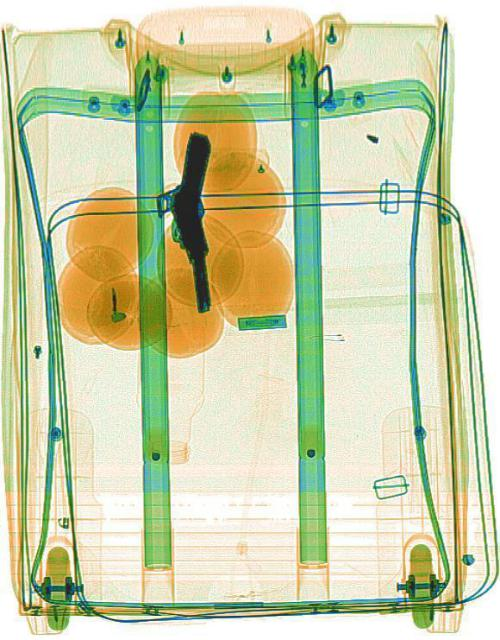Gun: (150, 125, 241, 262), (154, 178, 219, 318)
